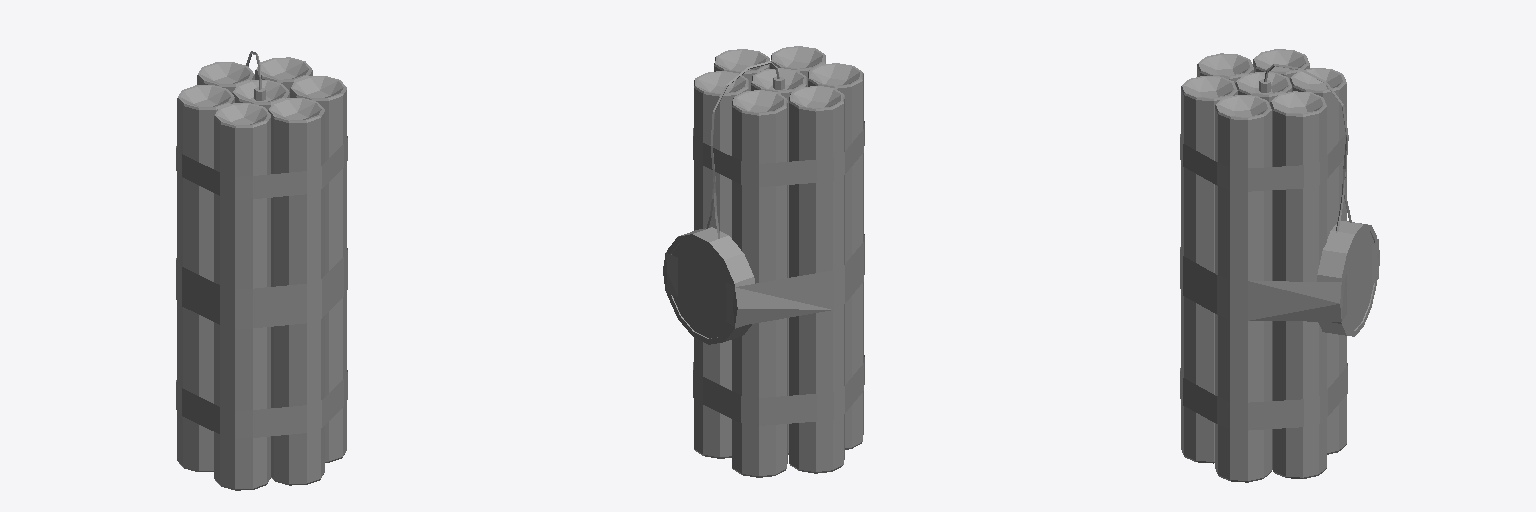
The model's file is Bomb_001.obj.
3 renders of one model, left to right at view 1: azimuth 30°, elevation 25°; view 2: azimuth 150°, elevation 25°; view 3: azimuth 270°, elevation 25°, orthographic.
Visible parts, largest first — view 1: Bomb_001_clock_bomb_Untitled; view 2: Bomb_001_clock_bomb_Untitled; view 3: Bomb_001_clock_bomb_Untitled.
Part boxes in pixels (x1,y1,x2,y2): Bomb_001_clock_bomb_Untitled: (176,51,347,490); Bomb_001_clock_bomb_Untitled: (663,46,864,477); Bomb_001_clock_bomb_Untitled: (1180,49,1379,482).
Bounding box in the file's own units: 0.2996 × 0.7364 × 0.3454.